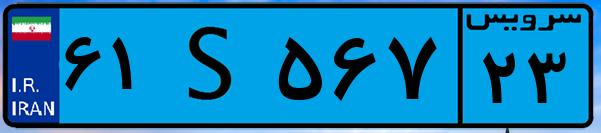1: (110, 28, 158, 98)
2: (475, 38, 525, 113)
3: (525, 38, 570, 115)
5: (270, 28, 330, 110)
6: (330, 28, 385, 110), (57, 26, 110, 100)
7: (385, 28, 445, 110)
S: (158, 12, 270, 120)
